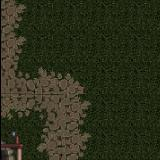Hide: (0, 117, 40, 160)
